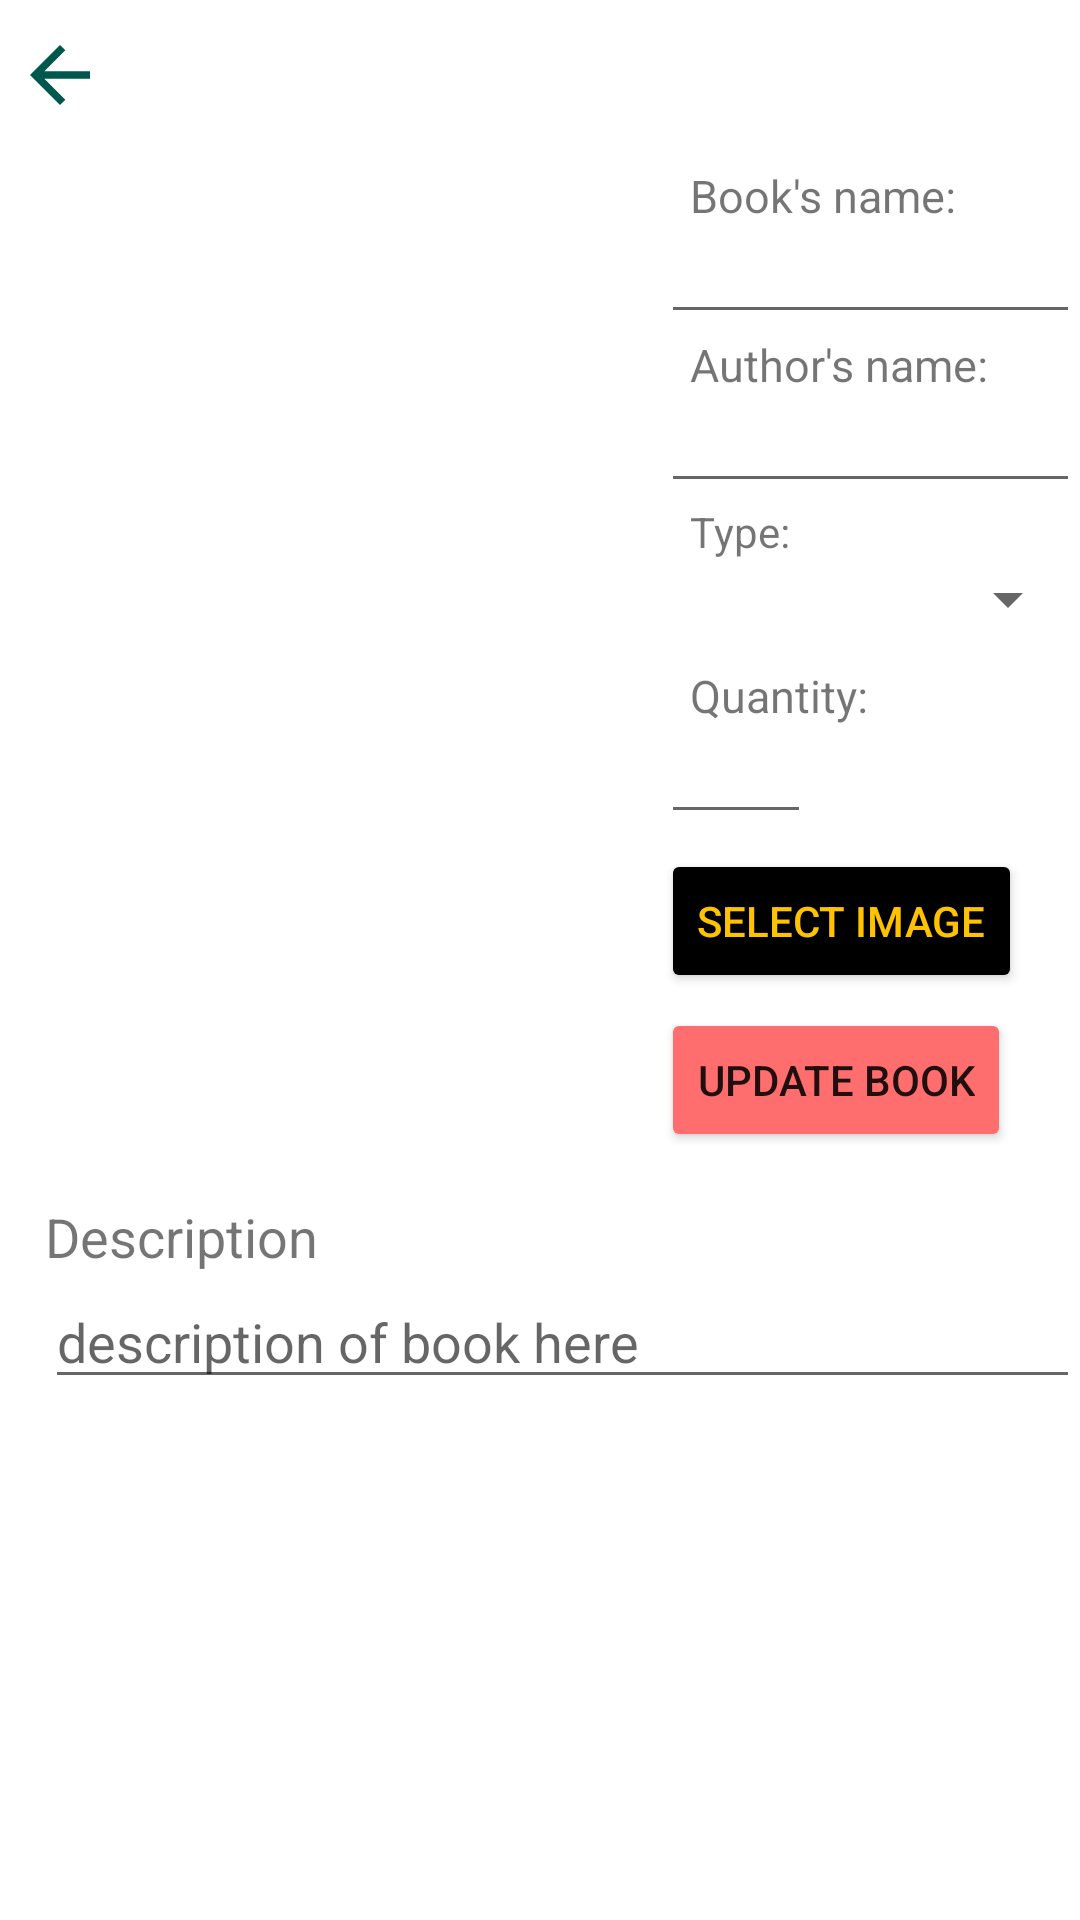

Where to tap for icons on this 1080×1920 app screen, as (x,y):
arrow back: (60,75)
